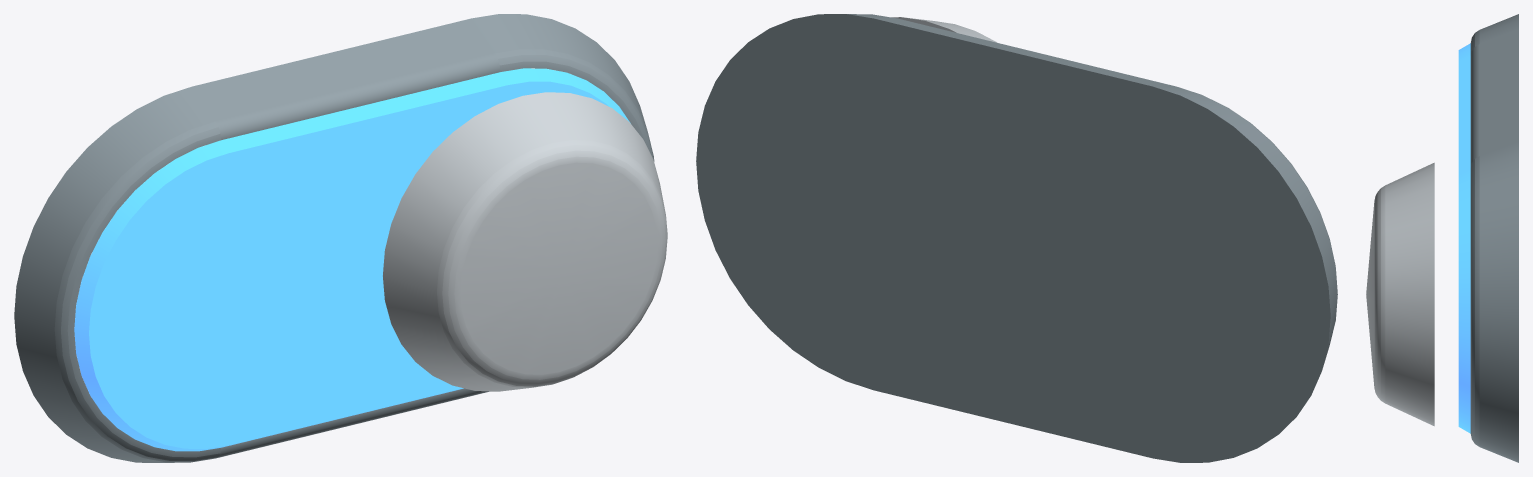
The model's file is plug.glb.
3 renders of one model, left to right at view 1: azimuth 30°, elevation 25°; view 2: azimuth 150°, elevation 25°; view 3: azimuth 270°, elevation 25°, orthographic. The views are drawn at different scales.
Visible parts, largest first — view 1: fill, thumb, track; view 2: track; view 3: track, thumb, fill.
Boxes of the visible parts, x1,y1,x2,y2 form: fill: (74, 68, 630, 451); thumb: (383, 92, 667, 391); track: (14, 14, 654, 462); track: (696, 14, 1337, 462); track: (1470, 14, 1518, 462); thumb: (1366, 162, 1434, 426); fill: (1458, 43, 1470, 433).
Size of the model in its own units: 0.05 by 0.028 by 0.0127.
